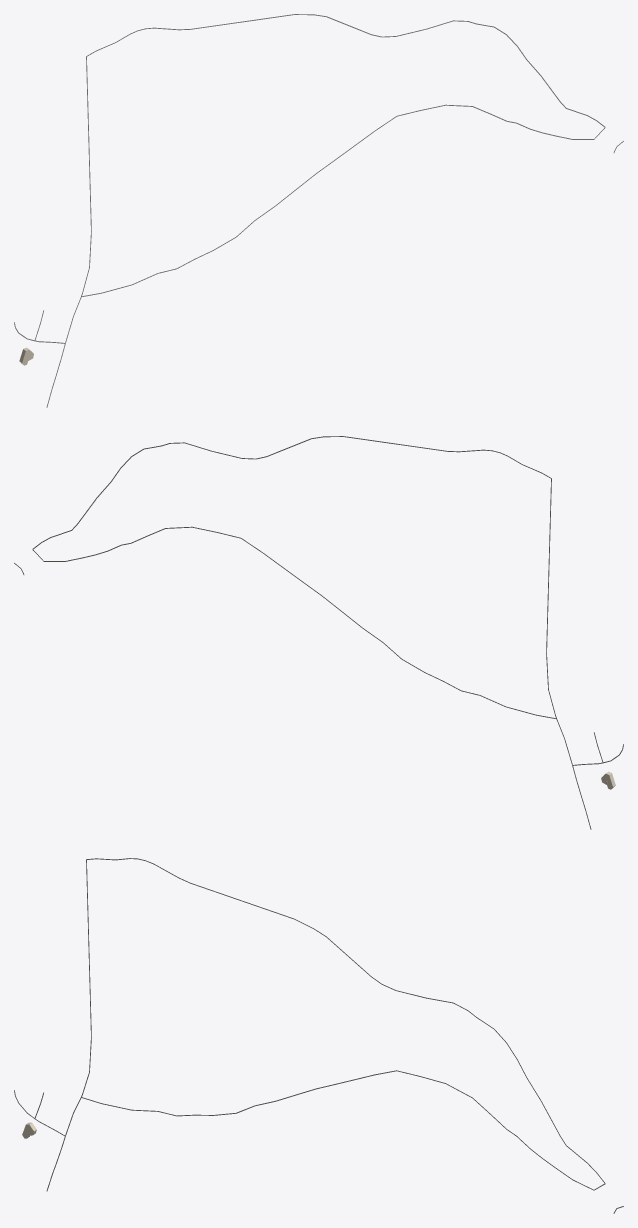
Rendered from historic-palestine-07_12_3492_3062.glb.
3 views of the same model, one above another, from view 1: azimuth 30°, elevation 25°; view 2: azimuth 150°, elevation 25°; view 3: azimuth 330°, elevation 25° (orthographic).
Visible parts, largest first — view 1: Road .006, Road .003; view 2: Road .006, Road .003; view 3: Road .006, Road .003.
Part boxes in pixels (left/top/right/bottom): Road .006: left=86, top=14, right=605, bottom=127; Road .003: left=81, top=104, right=605, bottom=297; Road .006: left=32, top=436, right=551, bottom=549; Road .003: left=32, top=526, right=556, bottom=719; Road .006: left=86, top=858, right=605, bottom=1183; Road .003: left=81, top=1070, right=605, bottom=1190.
Bounding box in the file's own units: 949 × 528 × 8.7.
